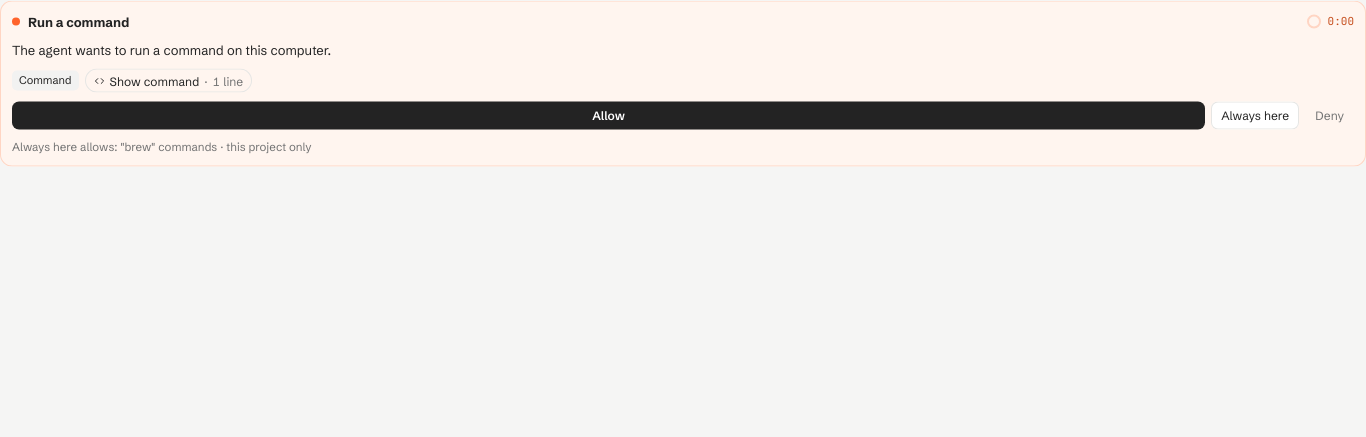
Scenario: ApprovalCard › says when the core shortened the detail
Click the button "Show command 1 line" at (168, 80), box [84, 68, 252, 92]
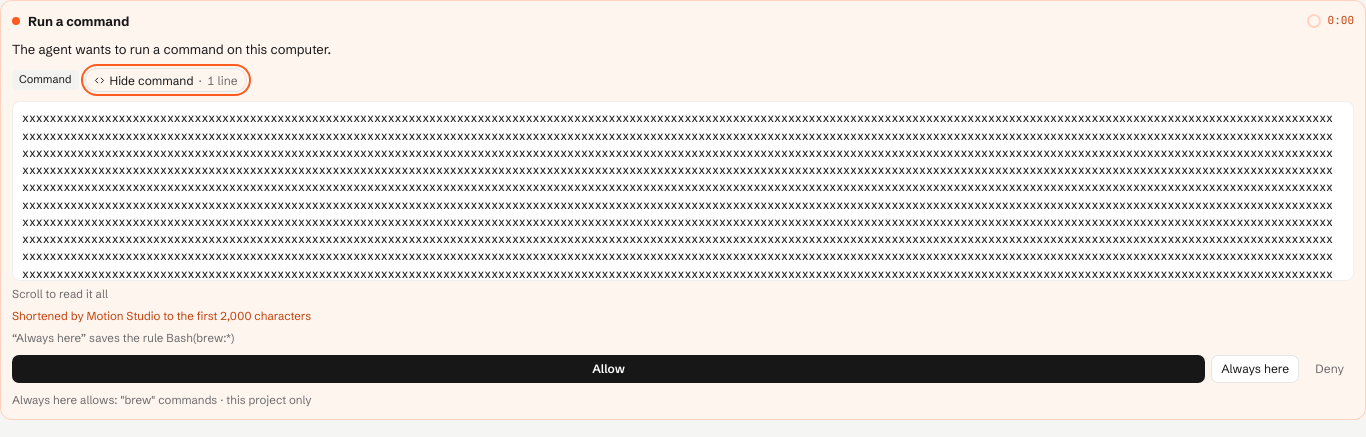
Check: the text "Shortened by Motion Studio to the first 2,000 characters" is shown, box [12, 309, 311, 323]
